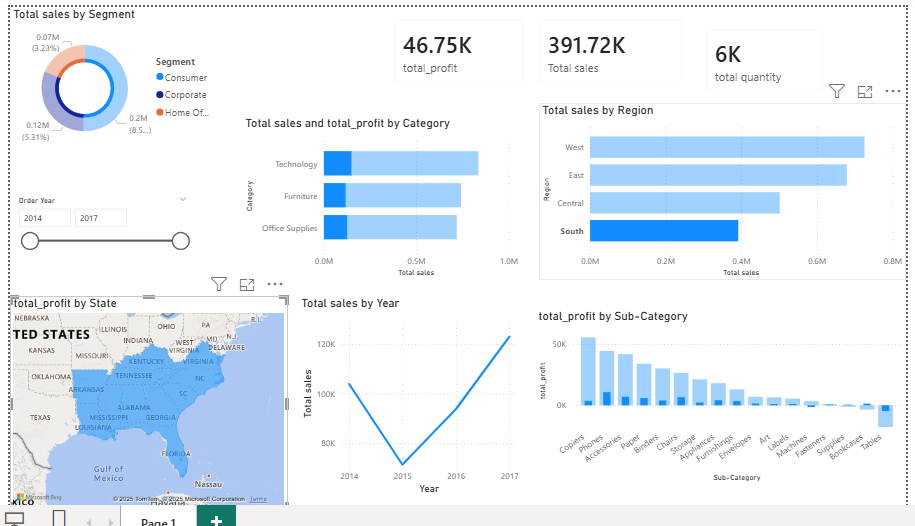

The page's visual inventory and layout, read from the dashboard file:
{"tool":"powerbi","page":{"name":"Page 1","canvas":[1280,720],"ordinal":0},"visuals":[{"type":"cardVisual","fields":{"Data":["Table1_3.Total sales"]},"box":[739.1,0,238.5,126],"z":0},{"type":"cardVisual","fields":{"Data":["Table1_3.total_profit"]},"box":[530.8,0,218.4,126],"z":1000},{"type":"cardVisual","fields":{"Data":["Table1_3.total quantity"]},"box":[977.1,14.3,201.4,122.9],"z":2000},{"type":"clusteredBarChart","fields":{"Category":["Table1_3.Category"],"Y":["Table1_3.Total sales"]},"box":[331.4,155.7,400,234.3],"z":3000},{"type":"clusteredColumnChart","fields":{"Category":["Table1_3.Sub-Category"],"Y":["Table1_3.total_profit"]},"box":[750,431.4,527.1,251.4],"z":4000},{"type":"lineChart","fields":{"Category":["Table1_3.Order Month-Year.Variation.Date Hierarchy.Year","Table1_3.Order Month-Year.Variation.Date Hierarchy.Quarter","Table1_3.Order Month-Year.Variation.Date Hierarchy.Month","Table1_3.Order Month-Year.Variation.Date Hierarchy.Day"],"Y":["Table1_3.Total sales"]},"box":[411.4,412.9,320,288.6],"z":5000},{"type":"barChart","fields":{"Category":["Table1_3.Region"],"Y":["Table1_3.Total sales"]},"box":[755.7,137.1,524.3,252.9],"z":6000},{"type":"donutChart","fields":{"Category":["Table1_3.Segment"],"Y":["Table1_3.Total sales"]},"box":[0,0,301.4,212.9],"z":7000},{"type":"slicer","fields":{"Values":["Table1_3.Order Year"]},"box":[0,265,265,103.7],"z":8000},{"type":"filledMap","fields":{"Category":["Table1_3.State"]},"box":[0,412.9,397.1,307.1],"z":9000}]}

Visuals, with their boxes on the page's 1280x720 design canvas (x1, y1, x2, y2). These are canvas units, not pixel positions in the 915x526 screenshot, which may show the page scaled, cropped or inside an application window:
cardVisual - Table1_3.Total sales: <bbox>739, 0, 978, 126</bbox>
cardVisual - Table1_3.total_profit: <bbox>531, 0, 749, 126</bbox>
cardVisual - Table1_3.total quantity: <bbox>977, 14, 1178, 137</bbox>
clusteredBarChart - Table1_3.Category x Table1_3.Total sales: <bbox>331, 156, 731, 390</bbox>
clusteredColumnChart - Table1_3.Sub-Category x Table1_3.total_profit: <bbox>750, 431, 1277, 683</bbox>
lineChart - Table1_3.Order Month-Year.Variation.Date Hierarchy.Year x Table1_3.Order Month-Year.Variation.Date Hierarchy.Quarter: <bbox>411, 413, 731, 702</bbox>
barChart - Table1_3.Region x Table1_3.Total sales: <bbox>756, 137, 1280, 390</bbox>
donutChart - Table1_3.Segment x Table1_3.Total sales: <bbox>0, 0, 301, 213</bbox>
slicer - Table1_3.Order Year: <bbox>0, 265, 265, 369</bbox>
filledMap - Table1_3.State: <bbox>0, 413, 397, 720</bbox>
